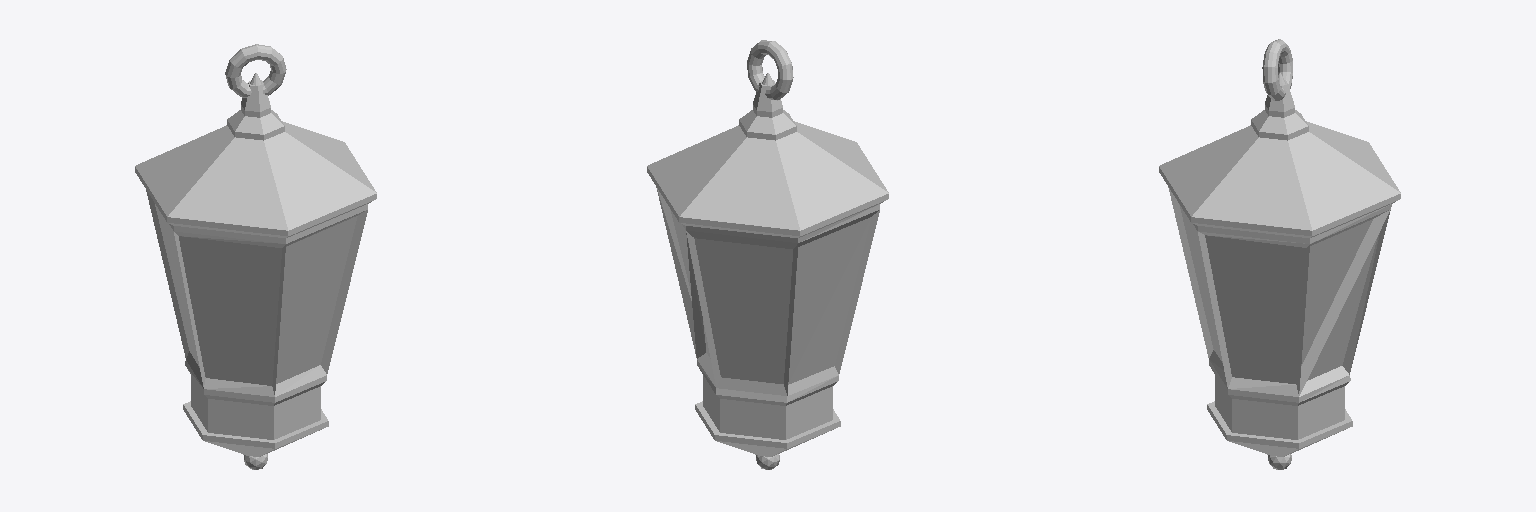
Rendered from lantern.obj.
The picture shows the model from 3 angles: view 1: azimuth 30°, elevation 25°; view 2: azimuth 150°, elevation 25°; view 3: azimuth 270°, elevation 25°; orthographic projection.
Size of the model in its own units: 0.3867 by 0.751 by 0.3867.